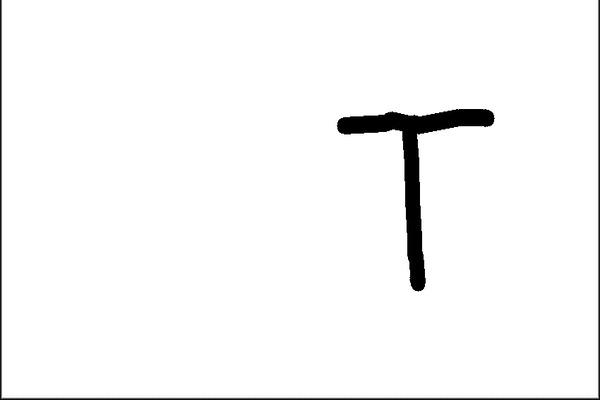T: (332, 100, 496, 295)
